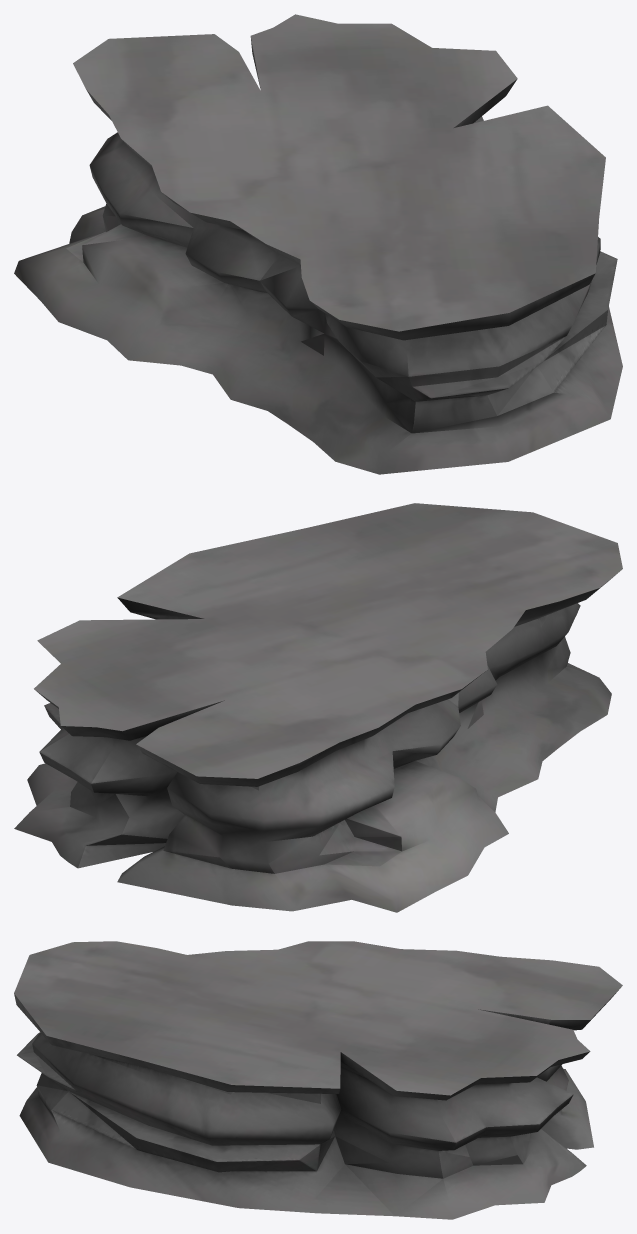
3 renders of one model, top to bottom at view 1: azimuth 30°, elevation 25°; view 2: azimuth 150°, elevation 25°; view 3: azimuth 270°, elevation 25°, orthographic. The views are drawn at different scales.
Parts seen in each view (by area): view 1: body0_model0_lod0_mesh0; view 2: body0_model0_lod0_mesh0; view 3: body0_model0_lod0_mesh0.
Part boxes in pixels (x1,y1,x2,y2): body0_model0_lod0_mesh0: (14, 14, 622, 474); body0_model0_lod0_mesh0: (14, 503, 622, 912); body0_model0_lod0_mesh0: (14, 941, 622, 1219).
Size of the model in its own units: 344 by 110 by 494.
Materials: 1 (1 with a texture image).
